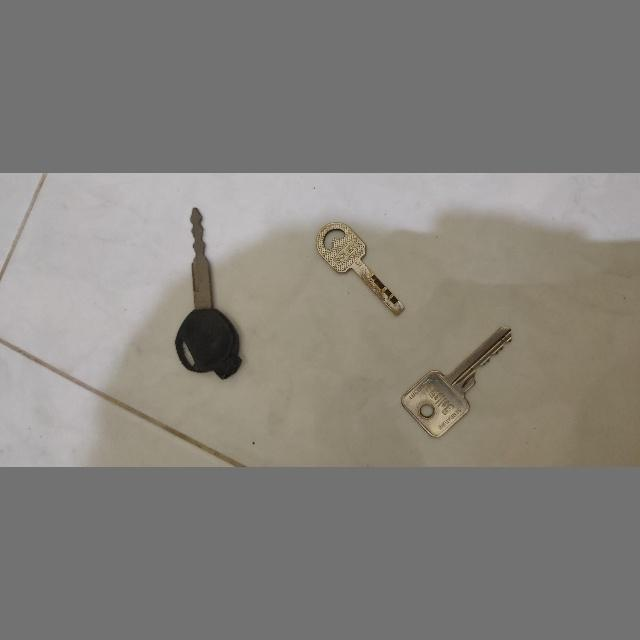Keys: (169, 202, 249, 390), (397, 324, 521, 444), (314, 218, 408, 318)
